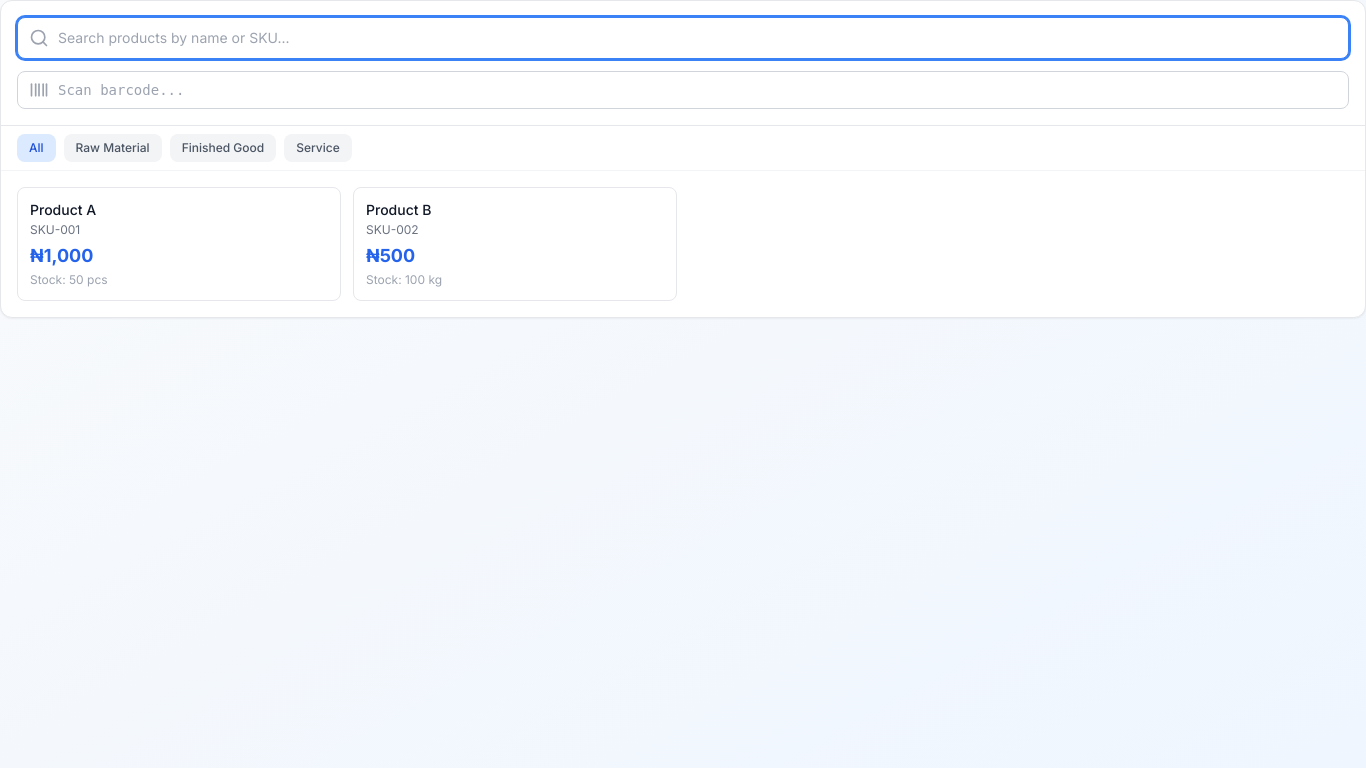
Test: ProductSearch › filters by category
The width and height of the screenshot is (1366, 768).
Click the button "Raw Material": (113, 148) [64,134,162,162]
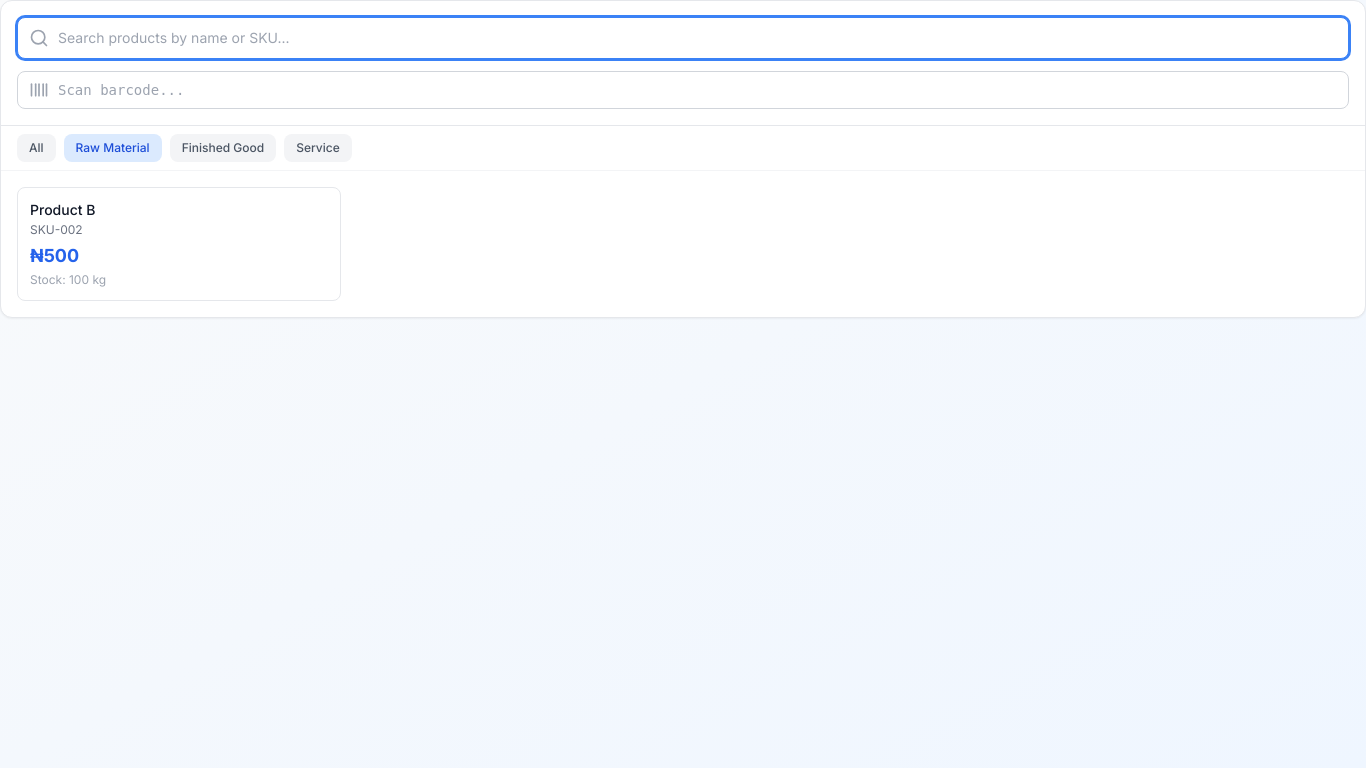
Expected: the text "Product B" is shown, [30,201,95,218]
Expected: the button "Product A" is gone
